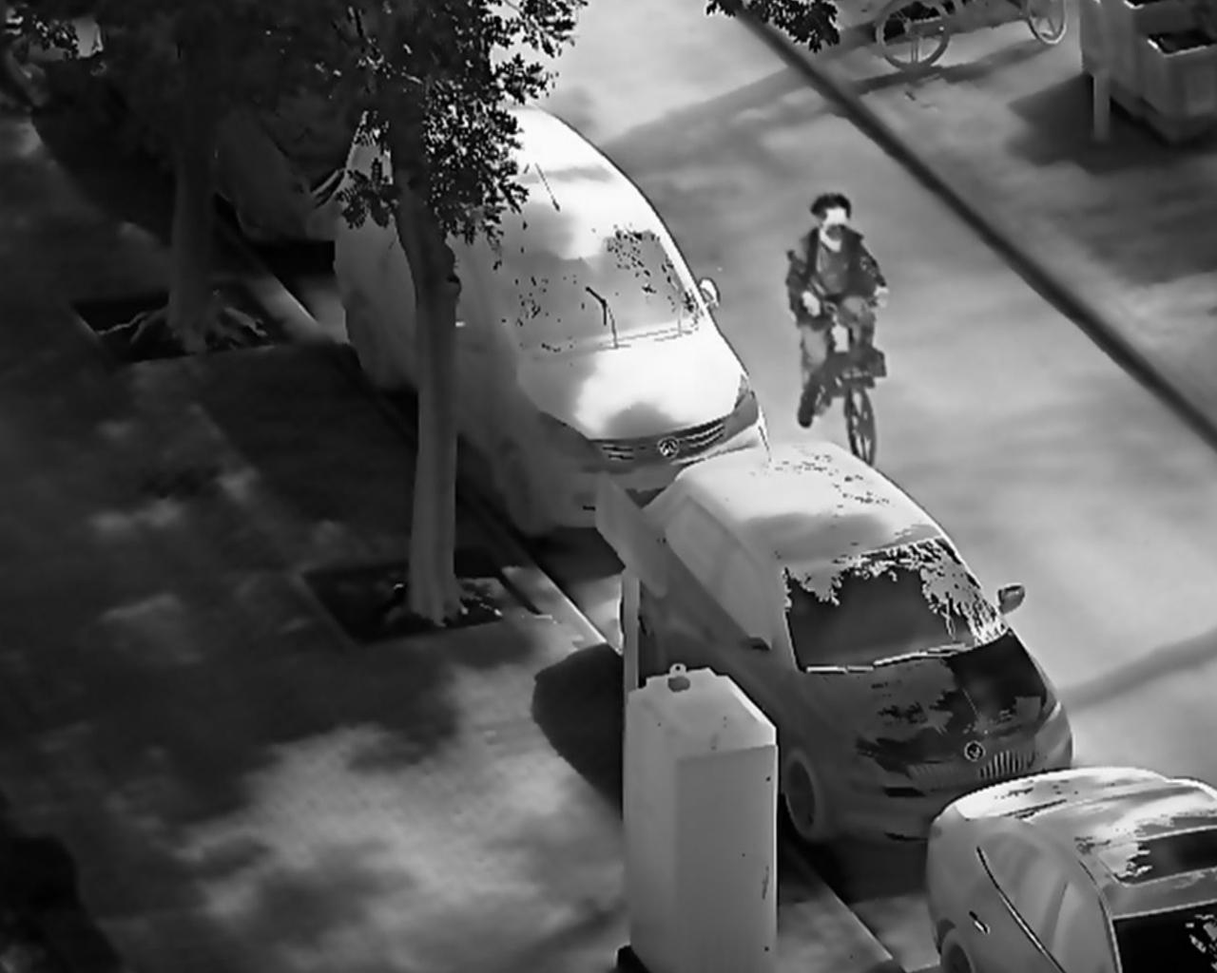person: (785, 192, 892, 431)
